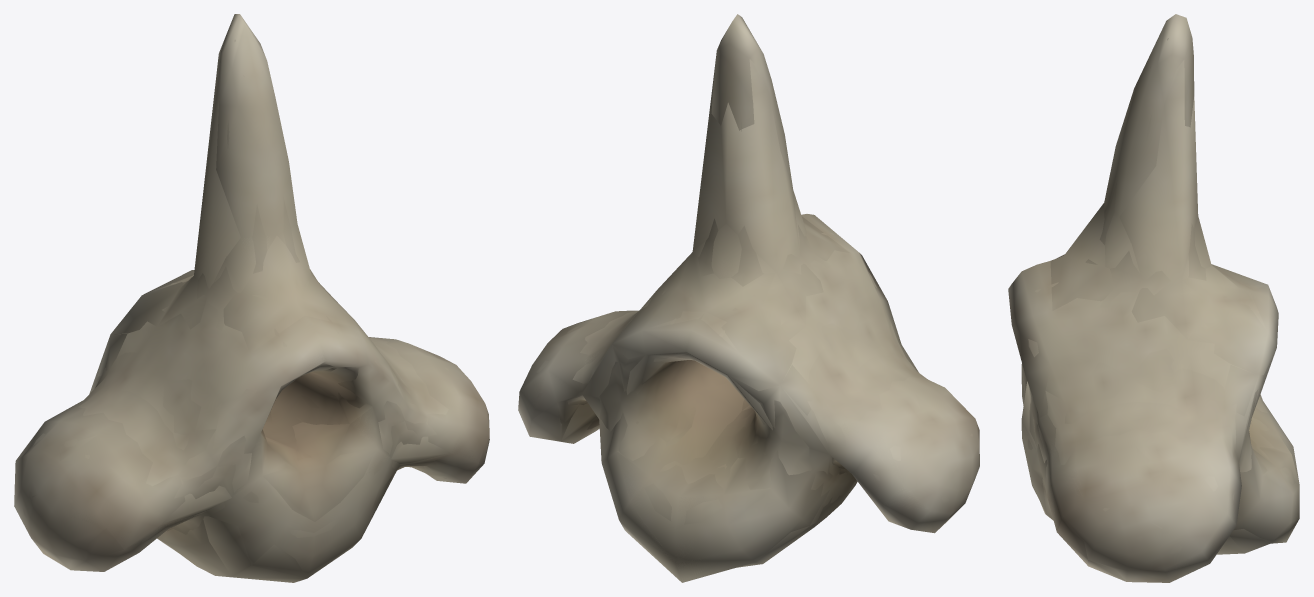
Rendered from vertebrae thoracicae 07.fbx.
3 views of the same model, side by side, from view 1: azimuth 30°, elevation 25°; view 2: azimuth 150°, elevation 25°; view 3: azimuth 270°, elevation 25° (orthographic). The views are drawn at different scales.
Visible parts, largest first — view 1: vertebrae thoracicae 07, vertebrae thoracicae 07 low, vertebrae thoracicae 07 high; view 2: vertebrae thoracicae 07, vertebrae thoracicae 07 low, vertebrae thoracicae 07 high; view 3: vertebrae thoracicae 07, vertebrae thoracicae 07 low, vertebrae thoracicae 07 high.
Part boxes in pixels (left/top/right/bottom): vertebrae thoracicae 07: left=14, top=14, right=489, bottom=582; vertebrae thoracicae 07 low: left=21, top=54, right=489, bottom=582; vertebrae thoracicae 07 high: left=22, top=35, right=457, bottom=551; vertebrae thoracicae 07: left=518, top=14, right=979, bottom=582; vertebrae thoracicae 07 low: left=520, top=53, right=979, bottom=580; vertebrae thoracicae 07 high: left=536, top=34, right=972, bottom=524; vertebrae thoracicae 07: left=1008, top=14, right=1299, bottom=582; vertebrae thoracicae 07 low: left=1018, top=60, right=1298, bottom=581; vertebrae thoracicae 07 high: left=1027, top=38, right=1295, bottom=554.
Bounding box in the file's own units: 1.35 × 1.61 × 0.8029.
Materials: 1 (1 with a texture image).
